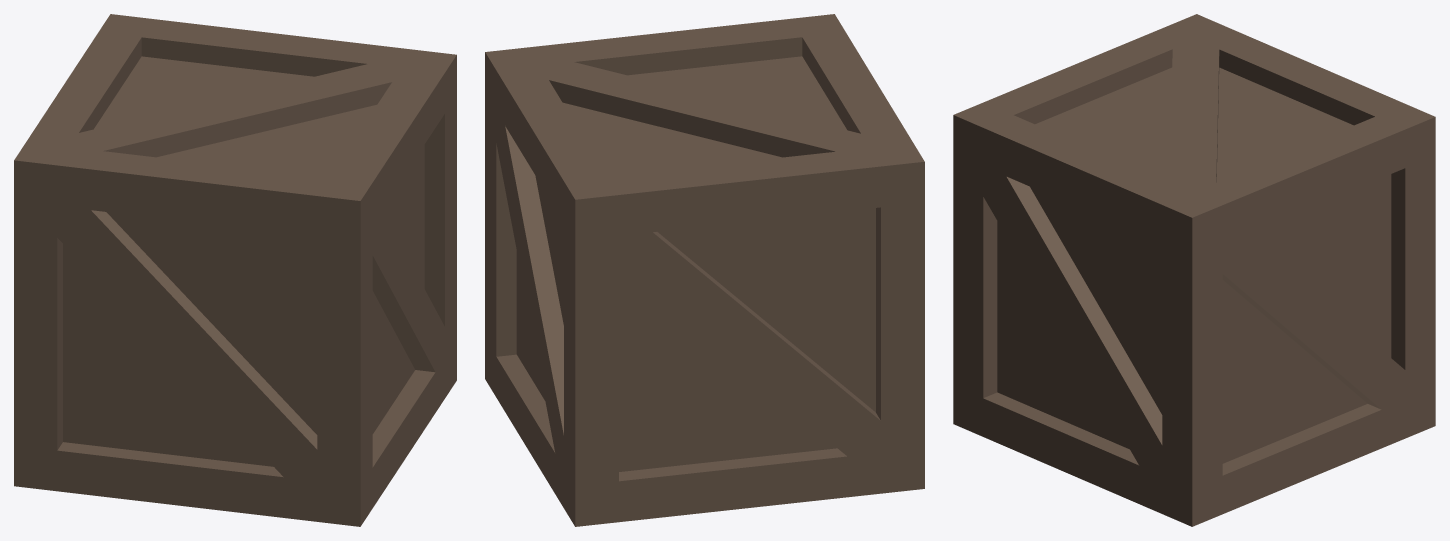
3 views of the same model, side by side, from view 1: azimuth 30°, elevation 25°; view 2: azimuth 150°, elevation 25°; view 3: azimuth 270°, elevation 25° (orthographic). The views are drawn at different scales.
Parts seen in each view (by area): view 1: braced_crate; view 2: braced_crate; view 3: braced_crate.
Part boxes in pixels (x1,y1,x2,y2): braced_crate: (14,14,456,526); braced_crate: (485,14,924,526); braced_crate: (953,14,1435,526).
Size of the model in its own units: 0.8485 by 0.6 by 0.8485.
